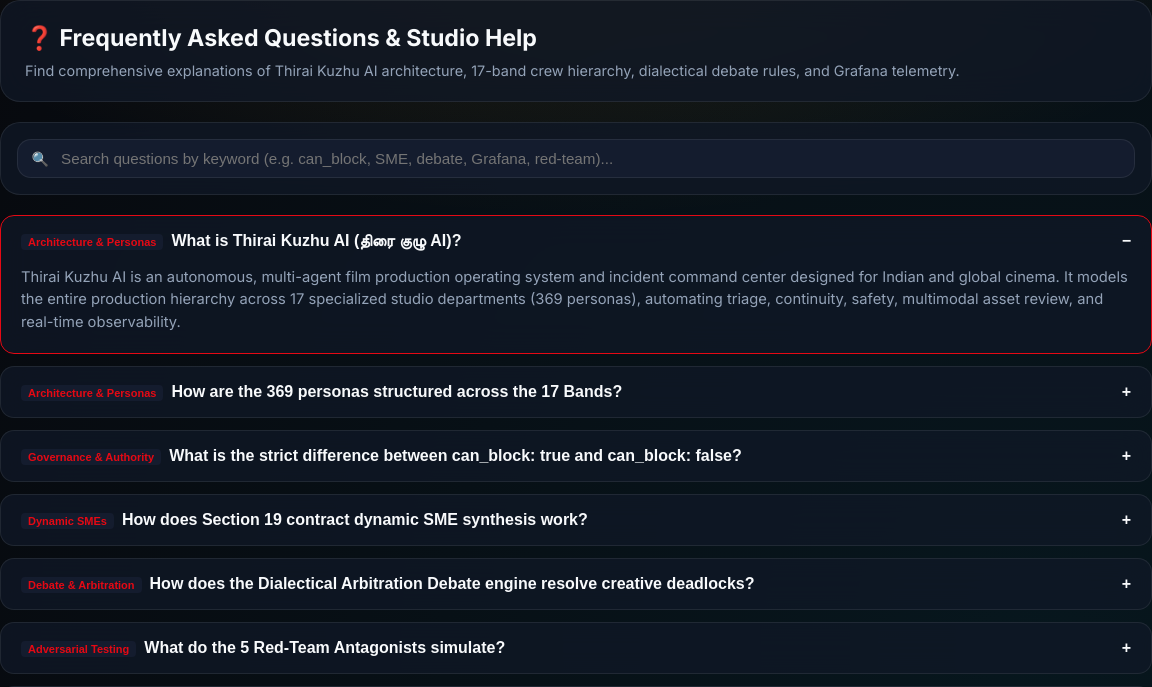
Test: FAQHelp & About Components › renders FAQ questions and filters on keyword search
The width and height of the screenshot is (1152, 687).
Expected: the heading "❓ Frequently Asked Questions & Studio Help" is shown, [25,24,537,52]
Replace the text in the field with placeholder "Search questions by keyword" with "can_block": (591, 159) [61,150,1120,167]
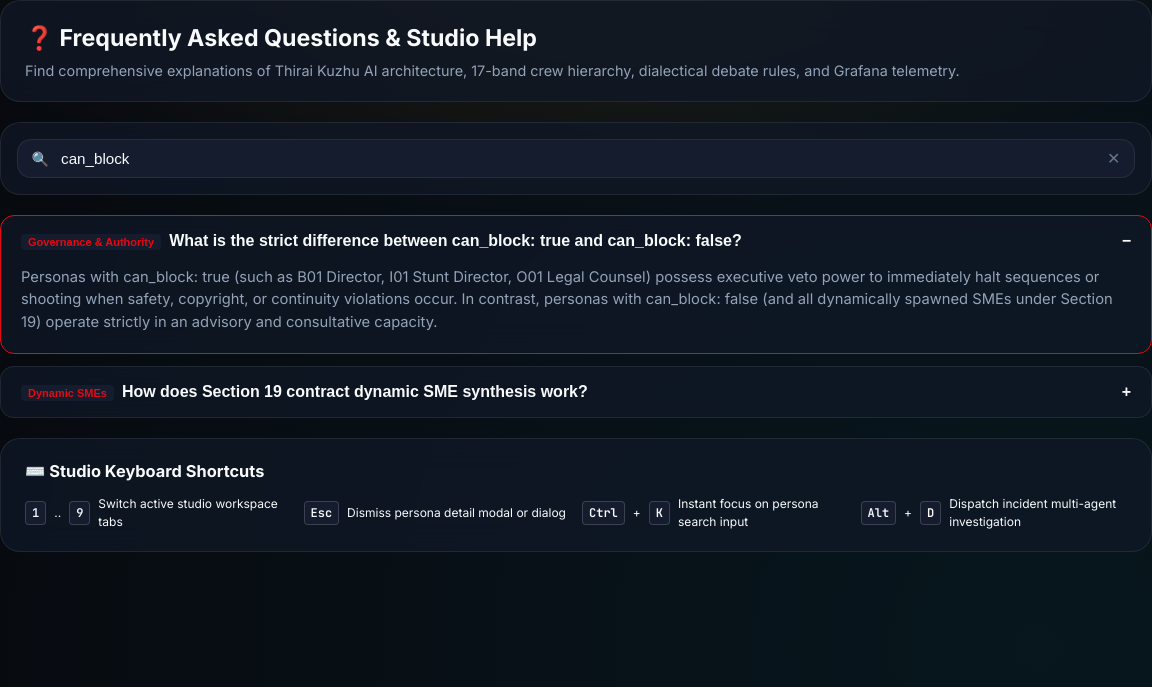
Now the text "strict difference between can_block: true and can_block: false" is shown, box [169,232,742,249]
